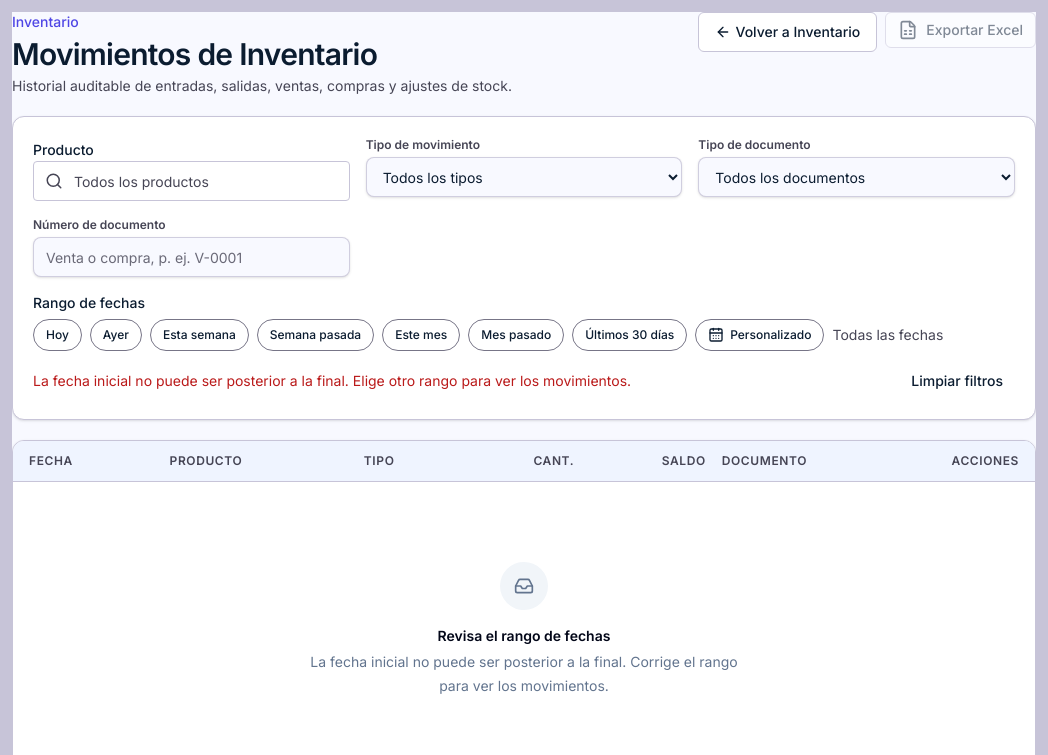
it: InventoryMovementsPage · filtros en servidor y en la URL › rango de fechas invertido › warns next to the dates and neither queries nor exports until it is fixed
expect the message shows "La fecha inicial no puede ser posterior a la final.": met, box [33, 372, 349, 389]
expect the text with test id "date-range-label" reads "Todas las fechas": met, box [832, 326, 943, 343]
Click the button "Esta semana" at (199, 335), box [150, 319, 249, 351]
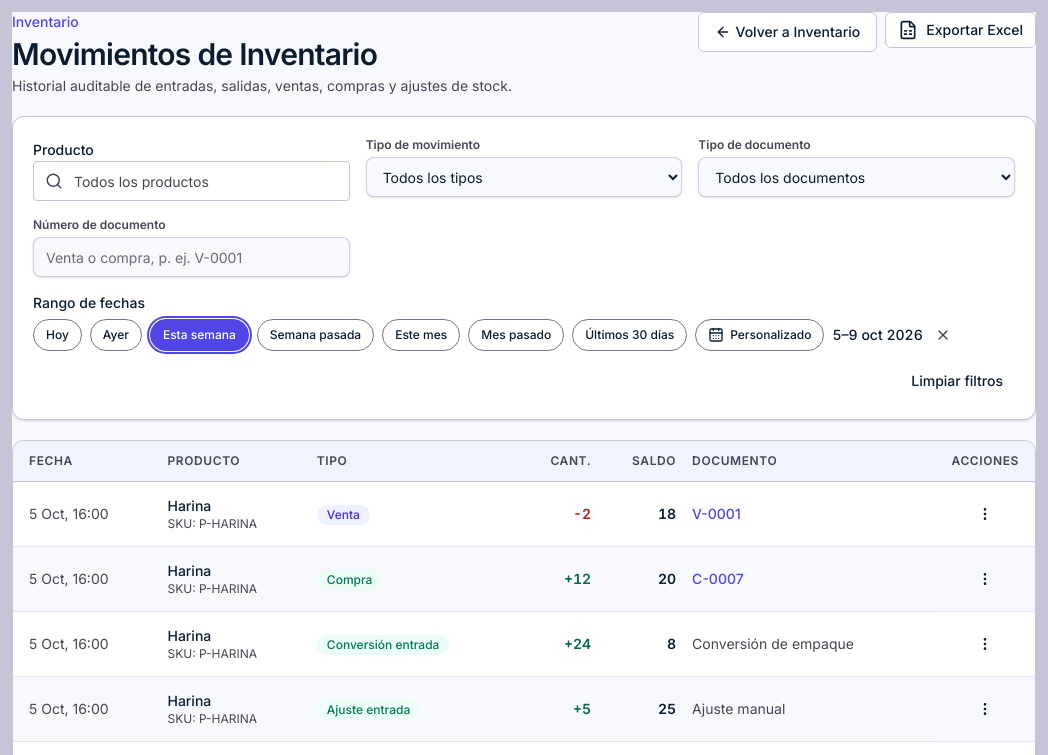
expect the message is gone: met
expect the button "Exportar Excel" is enabled: met, box [885, 12, 1036, 48]
